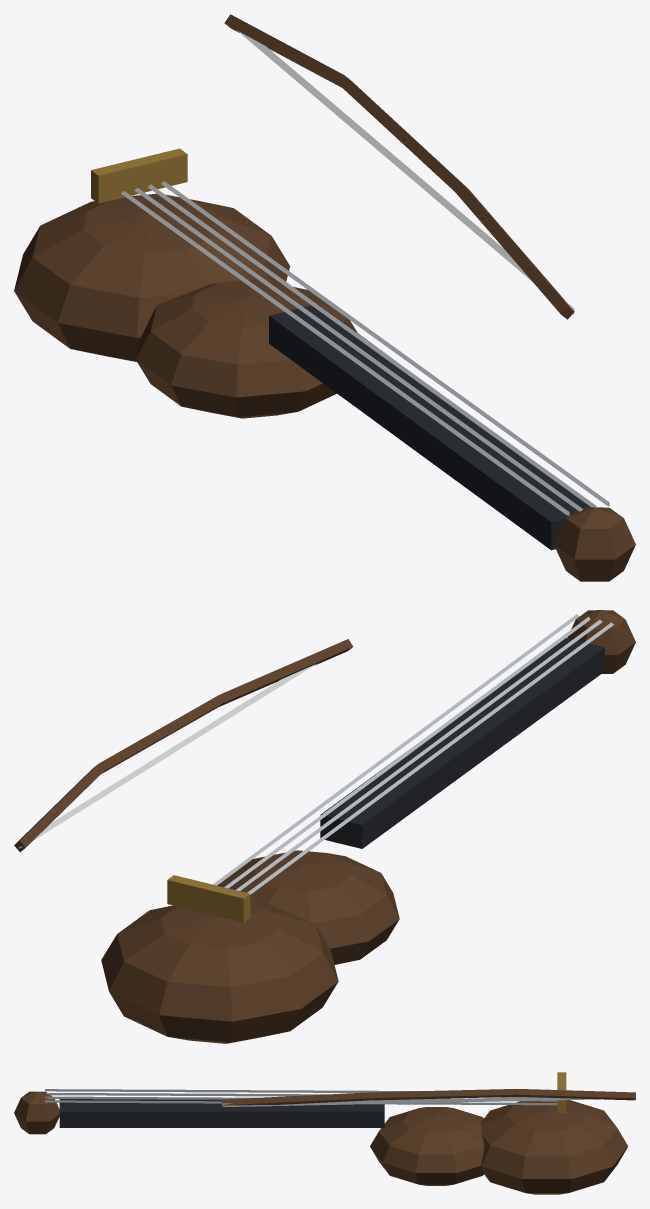
Rendered from mandoviol.glb.
The picture shows the model from 3 angles, top to bottom: view 1: azimuth 30°, elevation 25°; view 2: azimuth 150°, elevation 25°; view 3: azimuth 270°, elevation 25°; orthographic projection. The views are drawn at different scales.
Visible parts, largest first — view 1: m; view 2: m; view 3: m.
Boxes of the visible parts, <box> form: m: <box>14,14,635,581</box>; m: <box>14,610,635,1043</box>; m: <box>14,1072,635,1194</box>.
Size of the model in its own units: 0.1237 by 0.1002 by 0.4.
